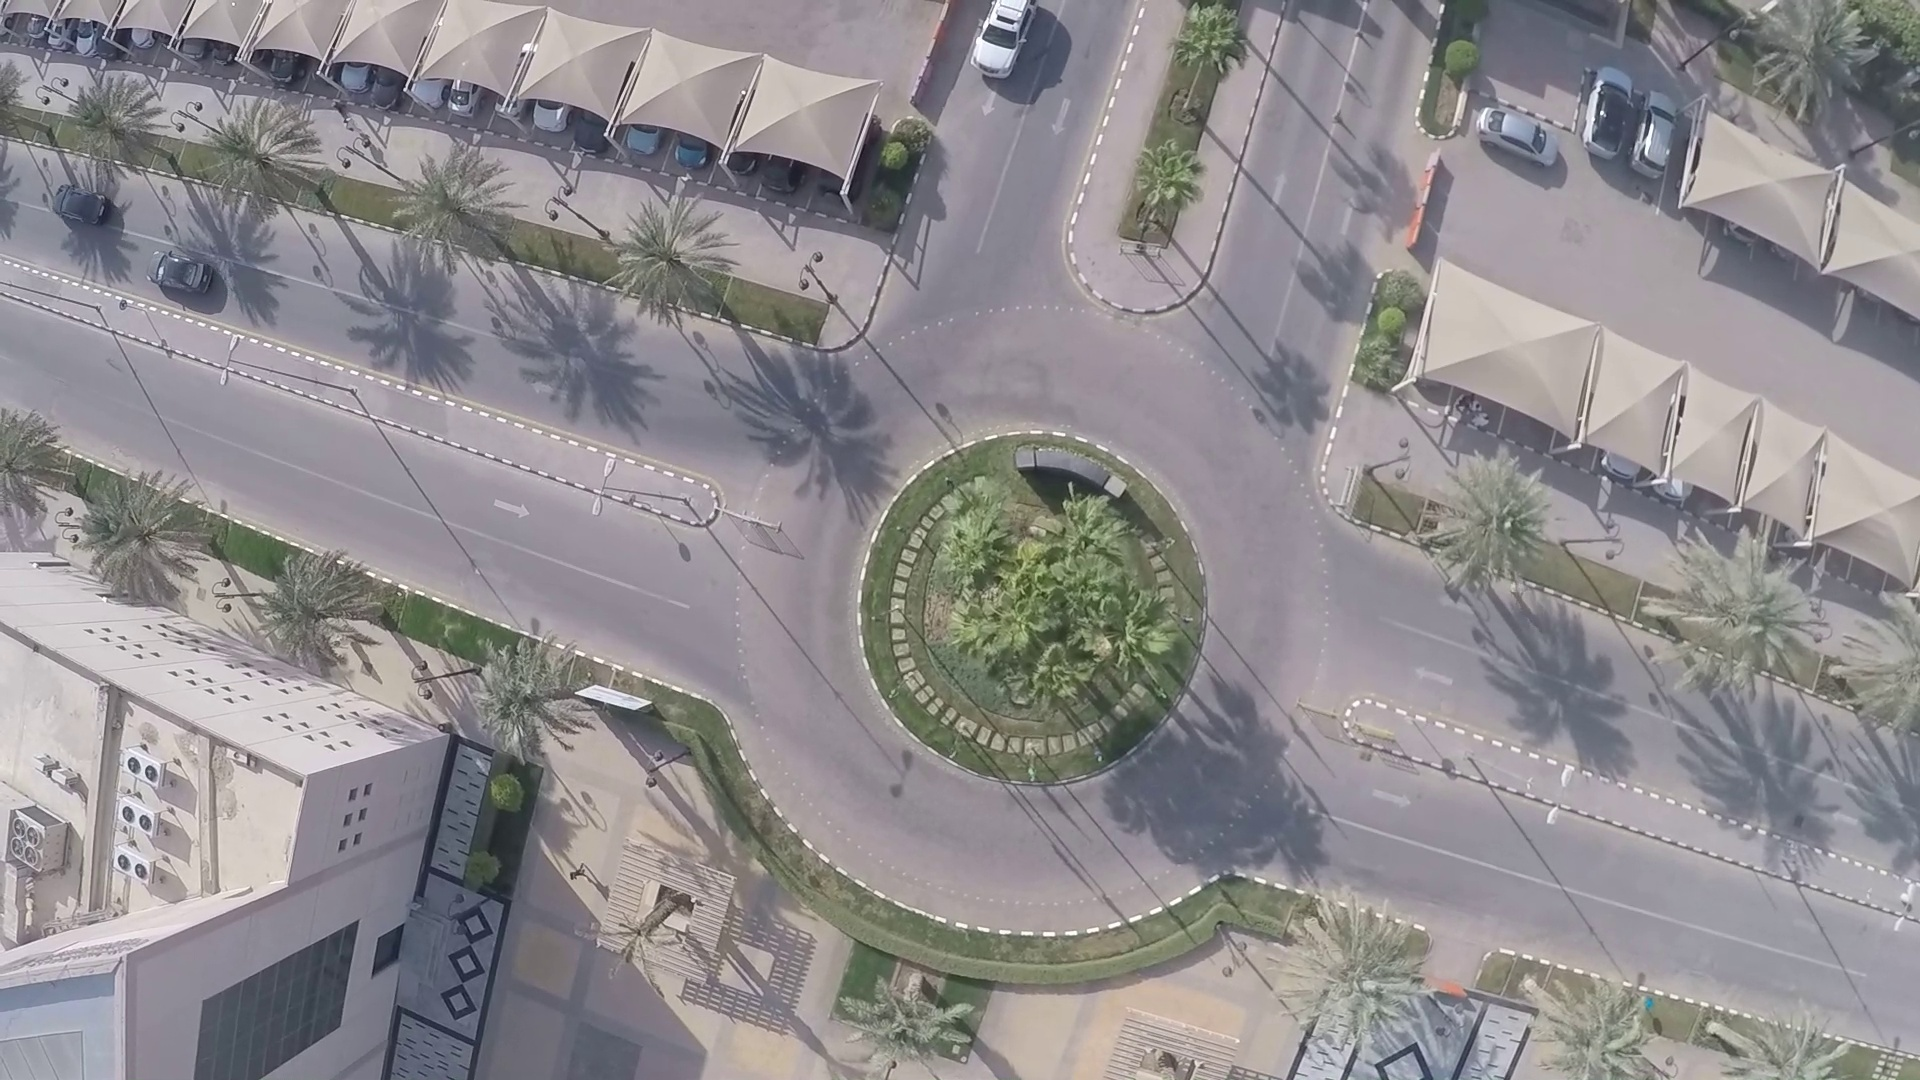car: (1476, 105, 1567, 165), (145, 247, 237, 298), (1581, 50, 1621, 166), (990, 1, 1039, 90), (1643, 87, 1680, 187), (45, 185, 117, 225)
